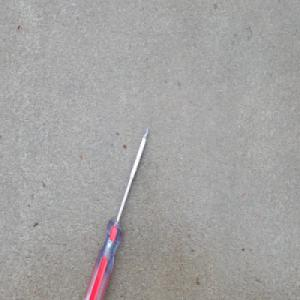Screwdriver: (81, 125, 150, 300)
